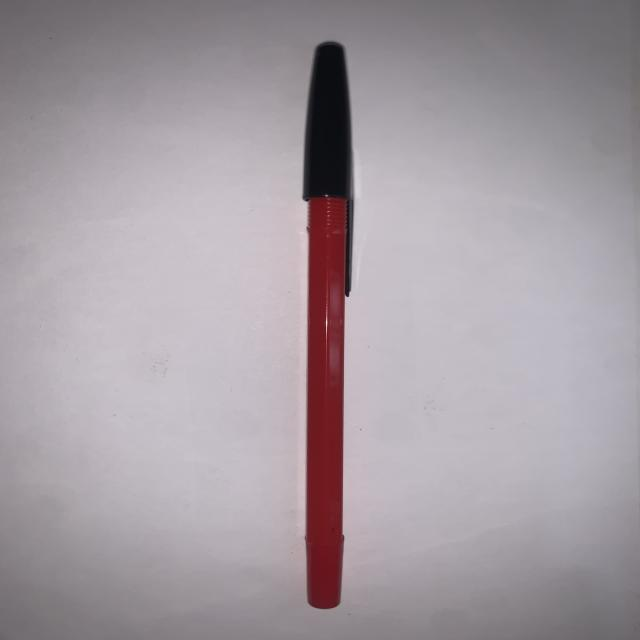Pulpen: (277, 34, 376, 624)
